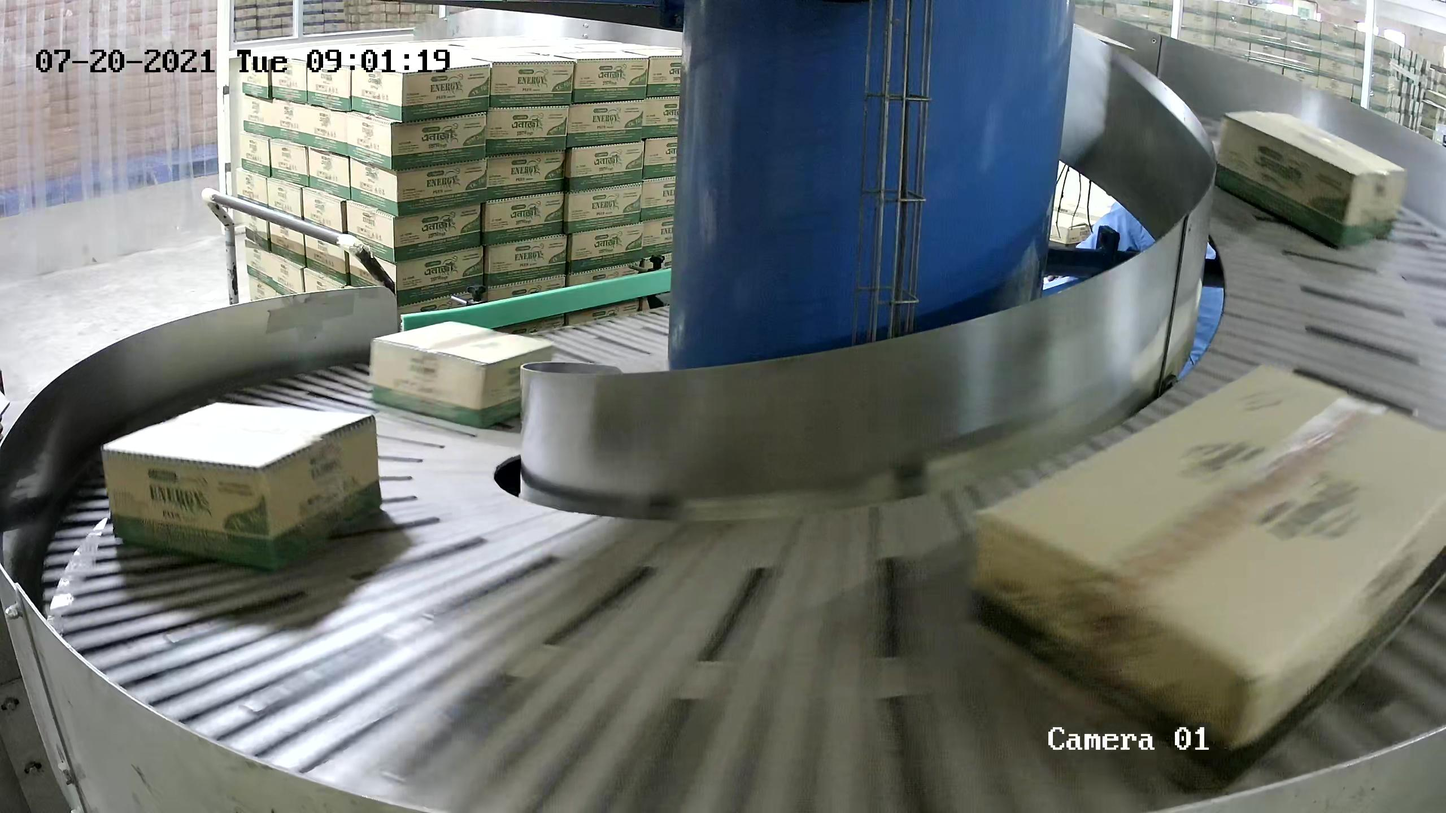Box: (966, 350, 1446, 802), (99, 396, 384, 578), (1214, 106, 1409, 253), (368, 318, 558, 430)
